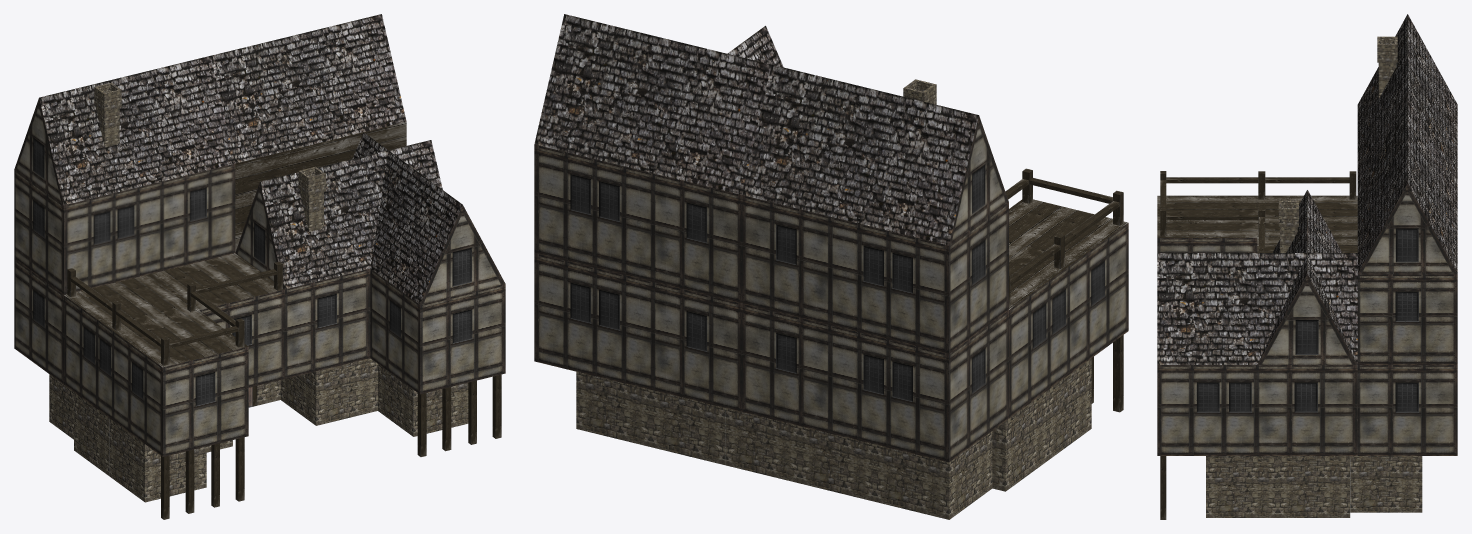
The model's file is House02.FBX.
3 renders of one model, left to right at view 1: azimuth 30°, elevation 25°; view 2: azimuth 150°, elevation 25°; view 3: azimuth 270°, elevation 25°, orthographic. The views are drawn at different scales.
Parts seen in each view (by area): view 1: House02; view 2: House02; view 3: House02.
Boxes of the visible parts, x1,y1,x2,y2 form: House02: (14, 14, 505, 519); House02: (534, 14, 1128, 519); House02: (1157, 14, 1457, 519).
Size of the model in its own units: 1945 by 1821 by 1459.
